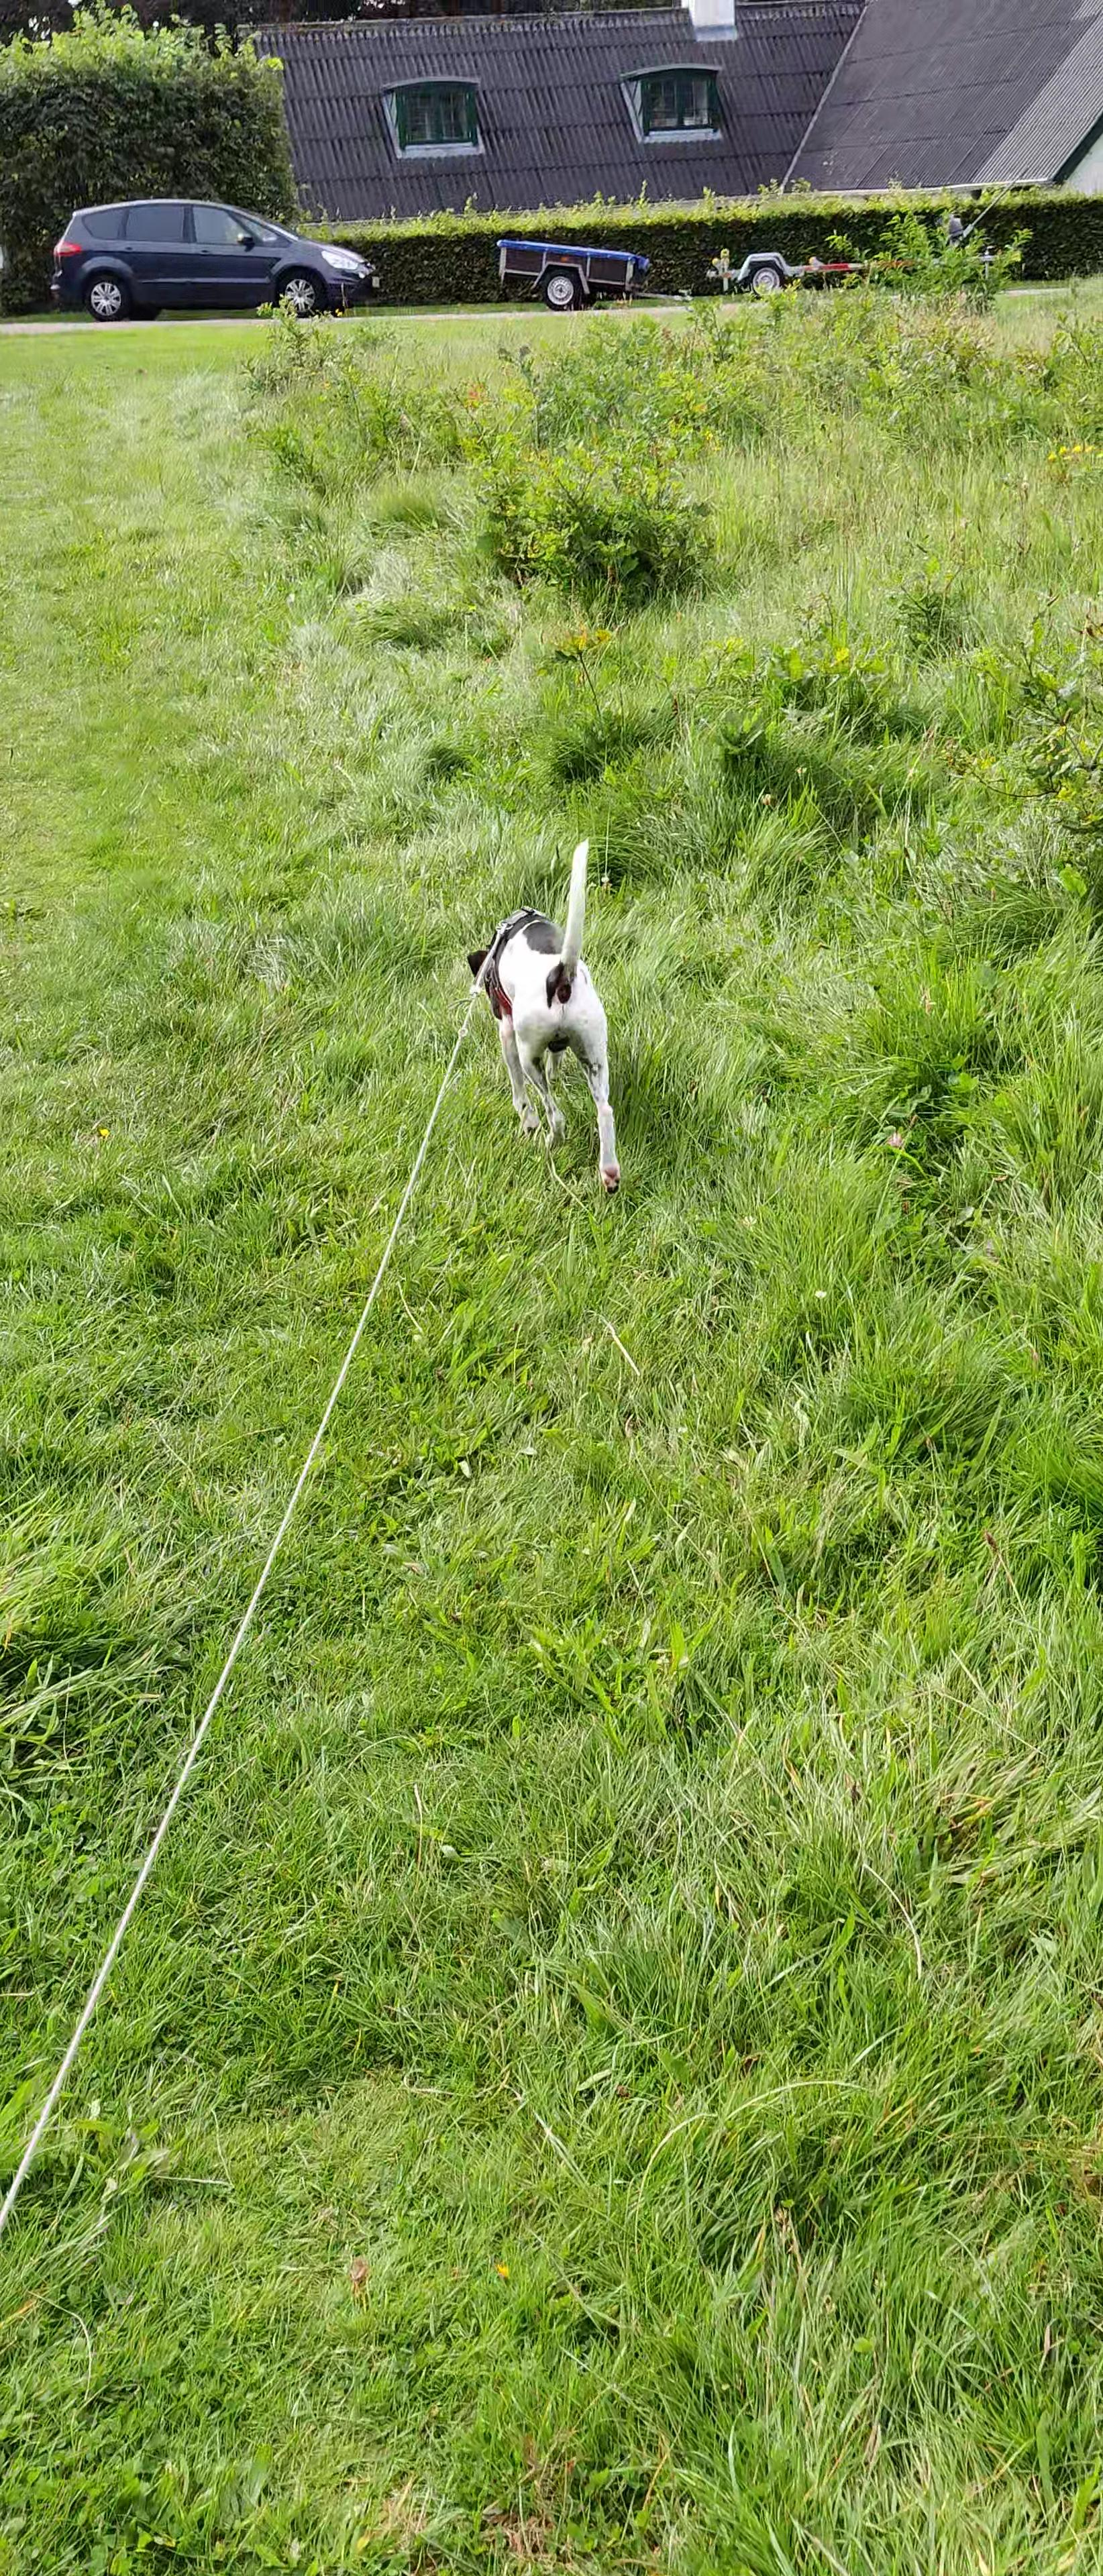Dog: (459, 825, 623, 1203)
